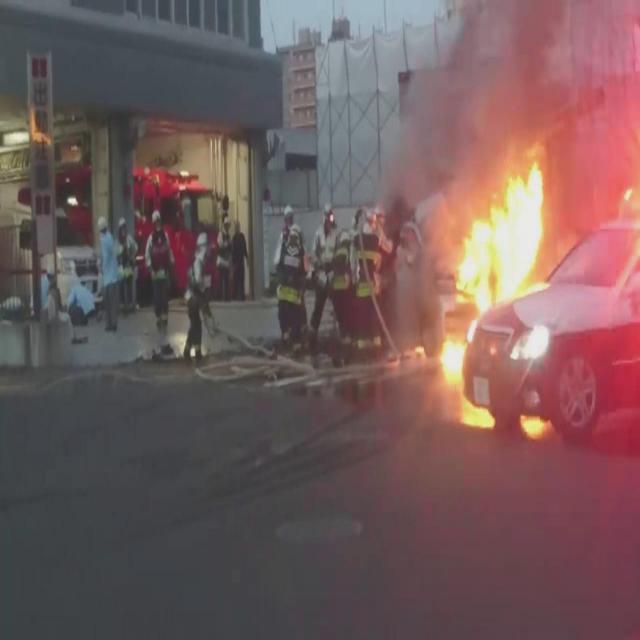Fire: (457, 156, 551, 306), (442, 313, 480, 387), (457, 396, 495, 430), (520, 415, 546, 437)
